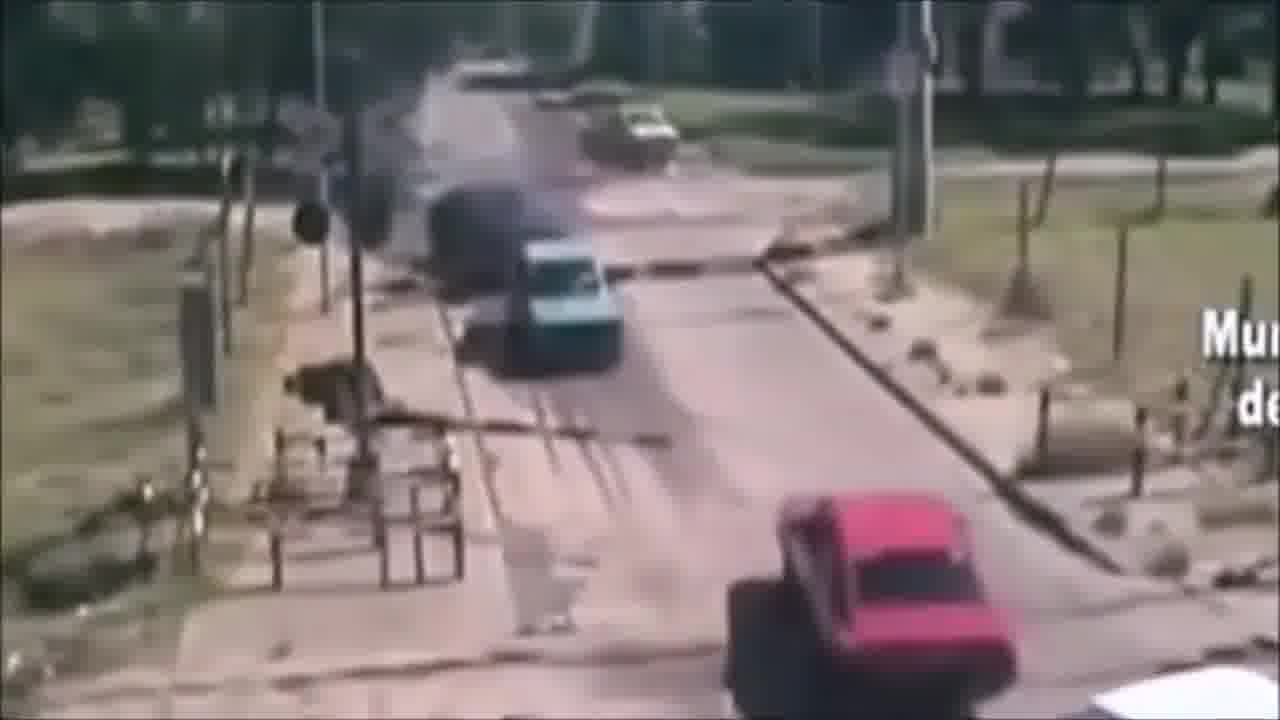crossing railway track: (761, 470, 1045, 720)
